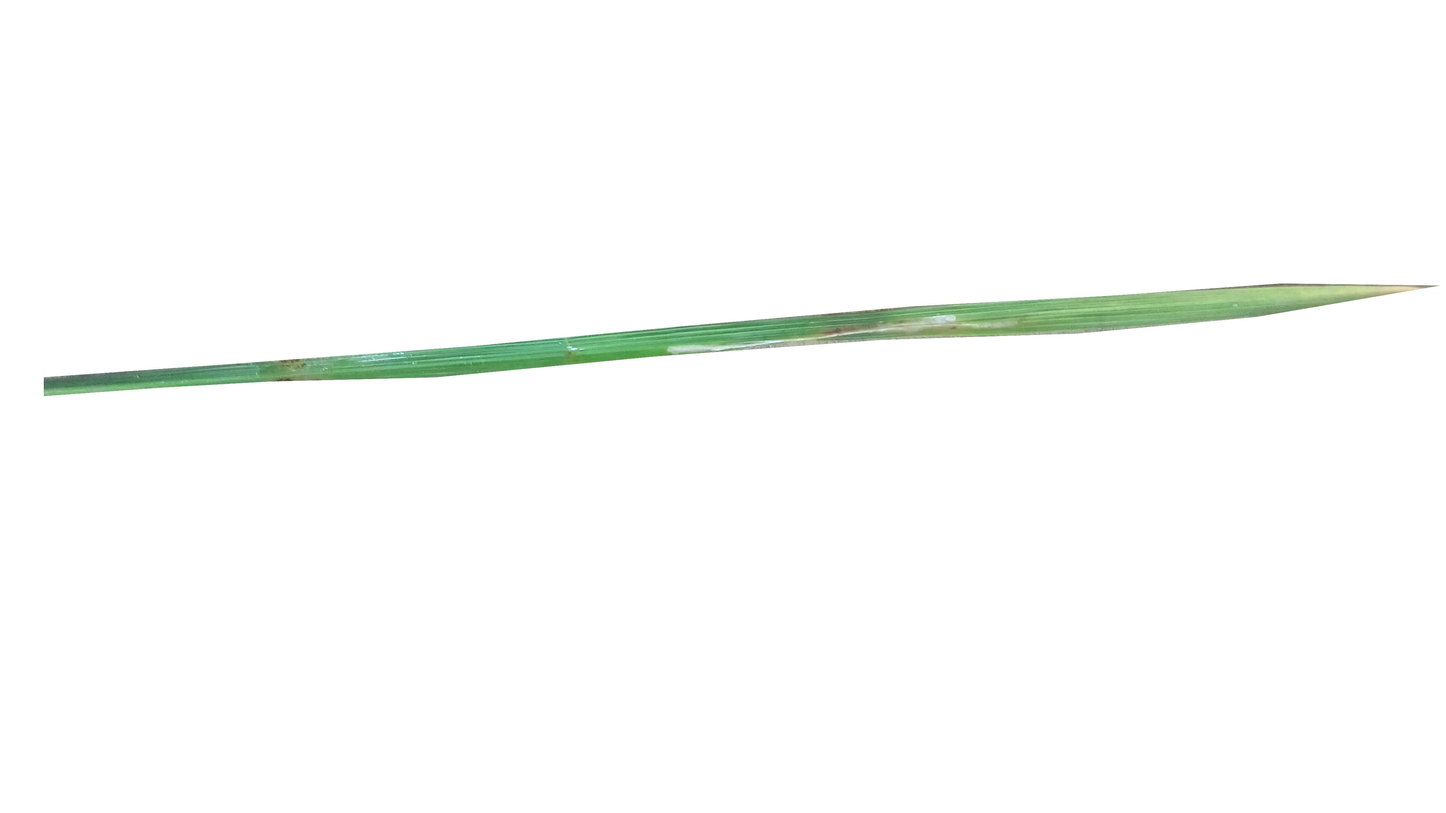Blight: (884, 311, 1017, 333)
